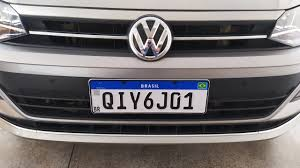car_plate: (85, 78, 212, 116)
